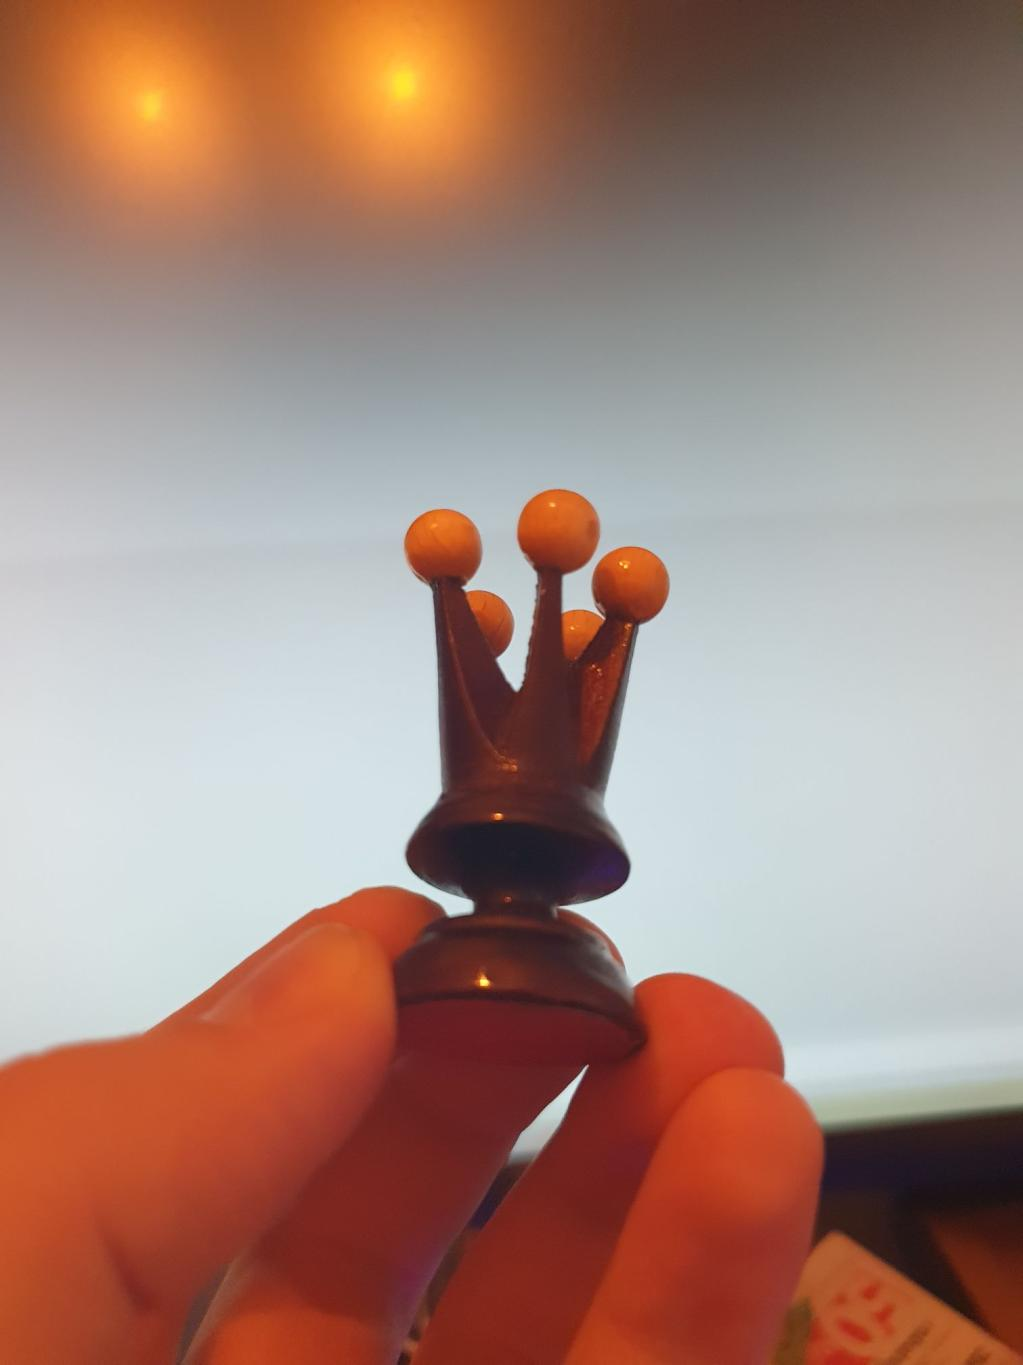bqueen: (381, 489, 672, 1068)
